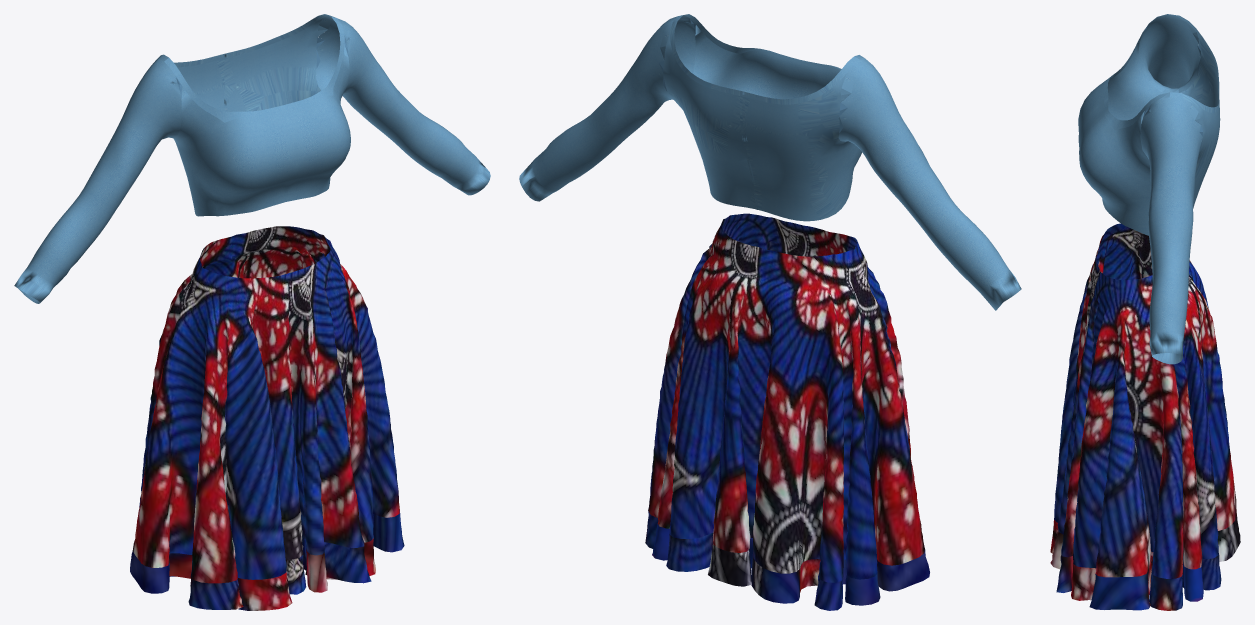
File: crop_top_long_skirt.glb
The picture shows the model from 3 angles, left to right: view 1: azimuth 30°, elevation 25°; view 2: azimuth 150°, elevation 25°; view 3: azimuth 270°, elevation 25°; orthographic projection. The views are drawn at different scales.
Parts seen in each view (by area): view 1: all_two, all; view 2: all_two, all; view 3: all_two, all.
Part boxes in pixels (x1=…): all_two: x1=130, y1=226, x2=404, y2=610; all: x1=14, y1=14, x2=490, y2=303; all_two: x1=645, y1=213, x2=929, y2=610; all: x1=519, y1=14, x2=1021, y2=310; all_two: x1=1050, y1=223, x2=1240, y2=610; all: x1=1078, y1=14, x2=1220, y2=364.
Bounding box in the file's own units: 0.6963 × 0.7341 × 0.2467.
2 materials, 2 textured.
